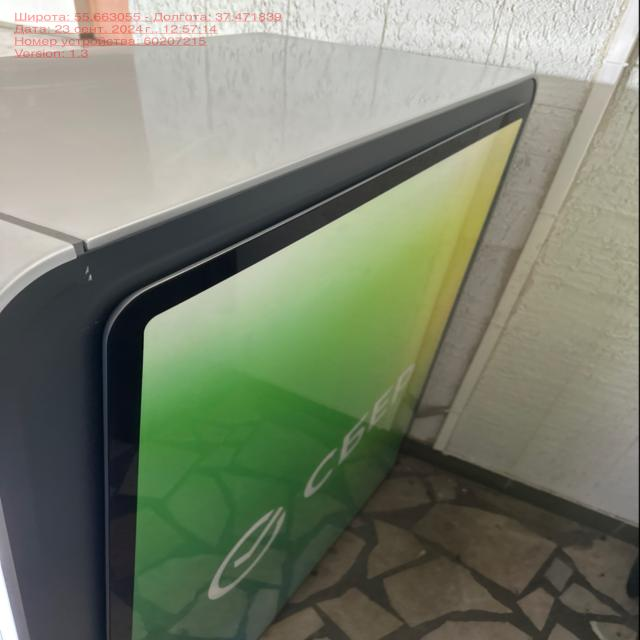bank: (0, 28, 540, 640)
